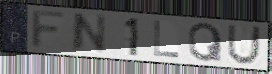1: (123, 17, 140, 57)
F: (29, 9, 70, 51)
L: (152, 19, 181, 59)
N: (69, 12, 108, 54)
Q: (187, 21, 224, 63)
U: (225, 24, 263, 66)
